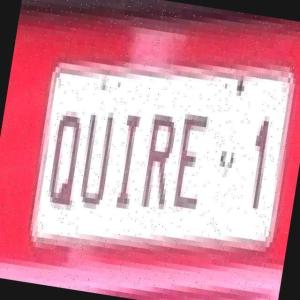Plate: (21, 52, 300, 277)
